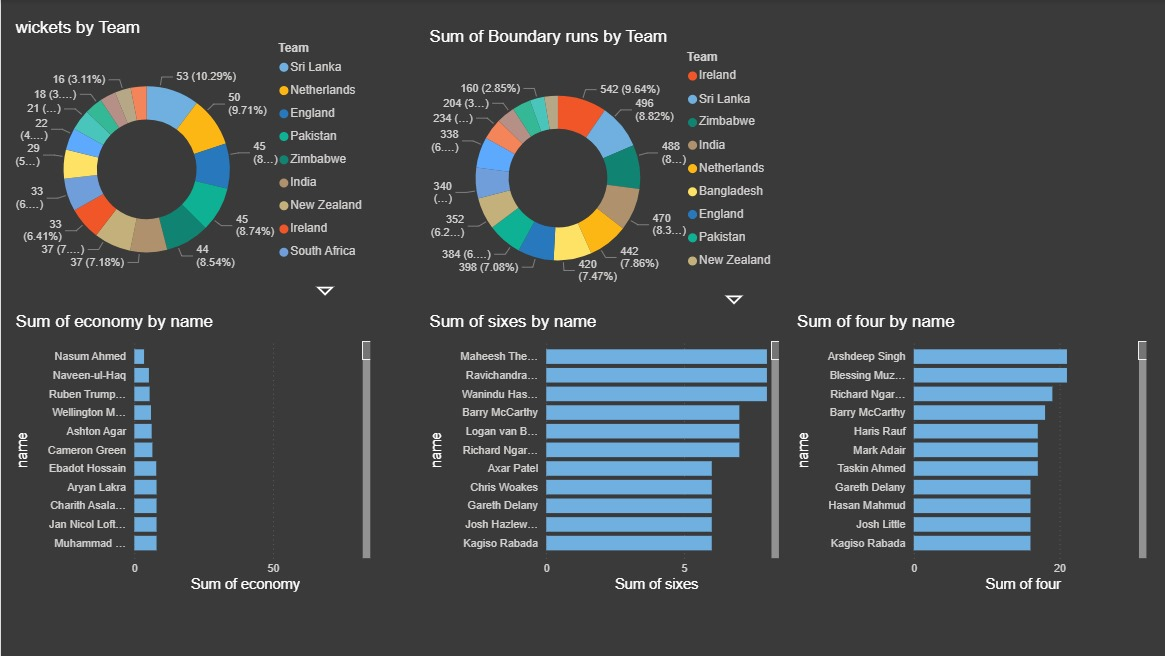

What the dashboard file says about the page in this screenshot:
{"tool":"powerbi","page":{"name":"Bowler data","canvas":[1280,720],"ordinal":0},"visuals":[{"type":"donutChart","fields":{"Category":["fact_bowling_summary.Team"],"Y":["key_measures.wickets"]},"box":[11,19.2,399.3,312.9],"z":0},{"type":"donutChart","fields":{"Category":["fact_bowling_summary.Team"],"Y":["fact_bowling_summary.Boundary runs"]},"box":[465.2,28.8,393.8,312.9],"z":2000},{"type":"clusteredBarChart","fields":{"Category":["dim_players.name"],"Y":["fact_bowling_summary.economy"]},"box":[11,342.1,399.3,312.9],"z":2001},{"type":"clusteredBarChart","fields":{"Category":["dim_players.name"],"Y":["fact_bowling_summary.sixes"]},"box":[465.2,342.1,393.8,312.9],"z":2002},{"type":"clusteredBarChart","fields":{"Category":["dim_players.name"],"Y":["fact_bowling_summary.four"]},"box":[869,342.1,393.8,312.9],"z":2003}]}

Visuals, with their boxes in screenshot pixels (x1, y1, x2, y2), scaled from the page's 1280x720 canvas onto the 1165x656 screenshot:
donutChart - fact_bowling_summary.Team x key_measures.wickets: pyautogui.locateOnScreen(10, 17, 373, 303)
donutChart - fact_bowling_summary.Team x fact_bowling_summary.Boundary runs: pyautogui.locateOnScreen(423, 26, 782, 311)
clusteredBarChart - dim_players.name x fact_bowling_summary.economy: pyautogui.locateOnScreen(10, 312, 373, 597)
clusteredBarChart - dim_players.name x fact_bowling_summary.sixes: pyautogui.locateOnScreen(423, 312, 782, 597)
clusteredBarChart - dim_players.name x fact_bowling_summary.four: pyautogui.locateOnScreen(791, 312, 1149, 597)
